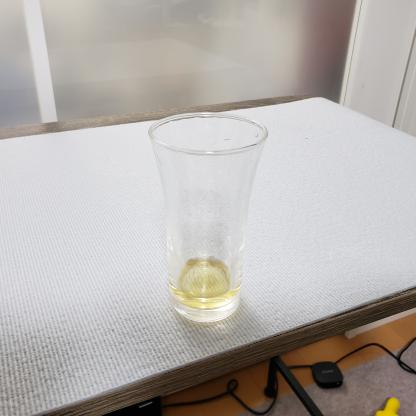glass: (138, 108, 274, 320)
